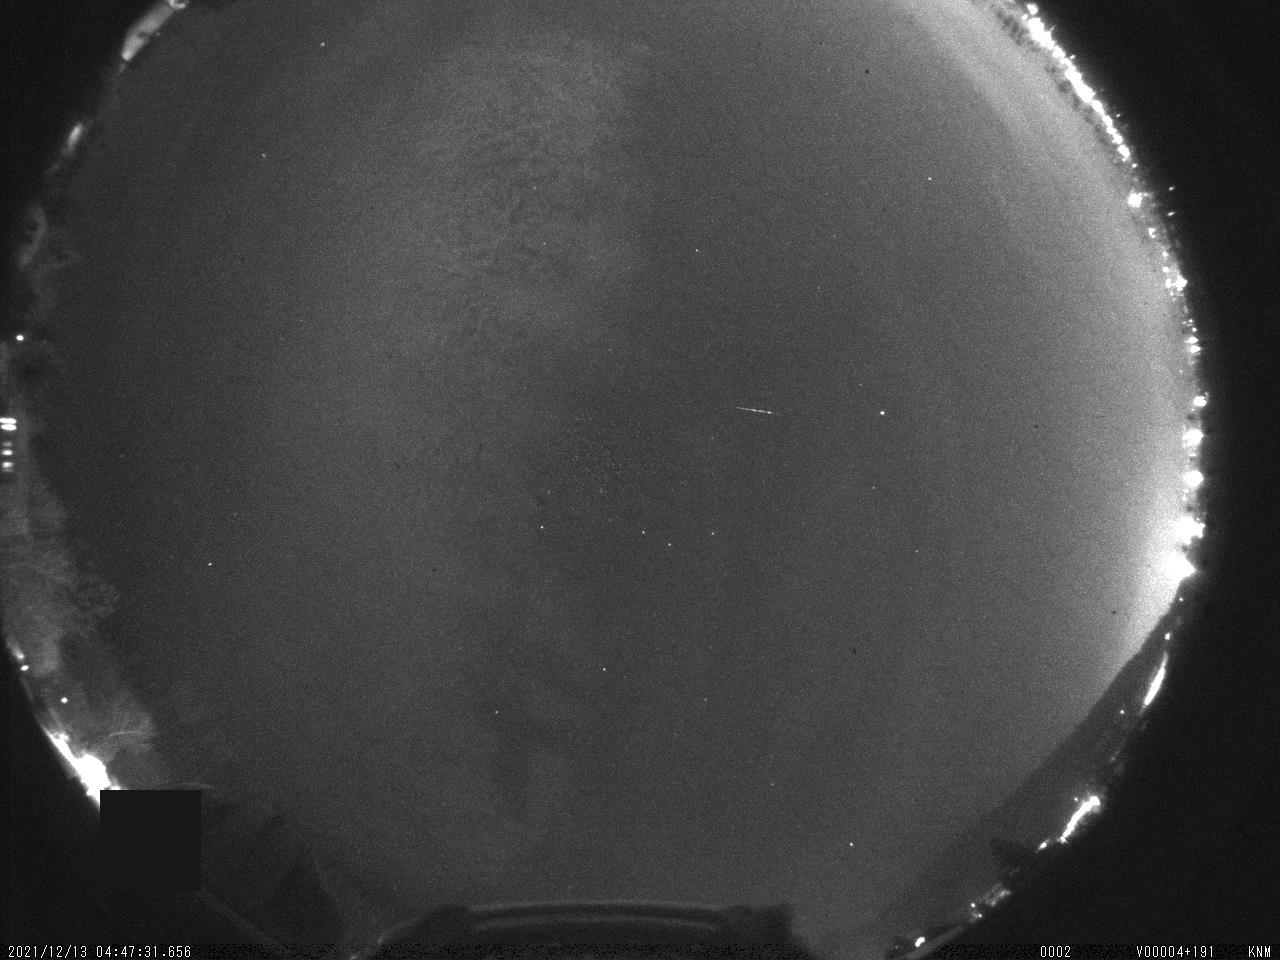meteor: (730, 389, 790, 431)
